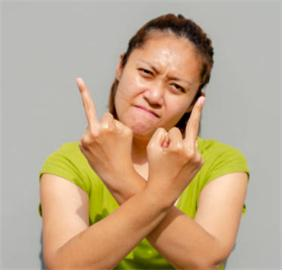insulting_gesture: (75, 75, 206, 208)
